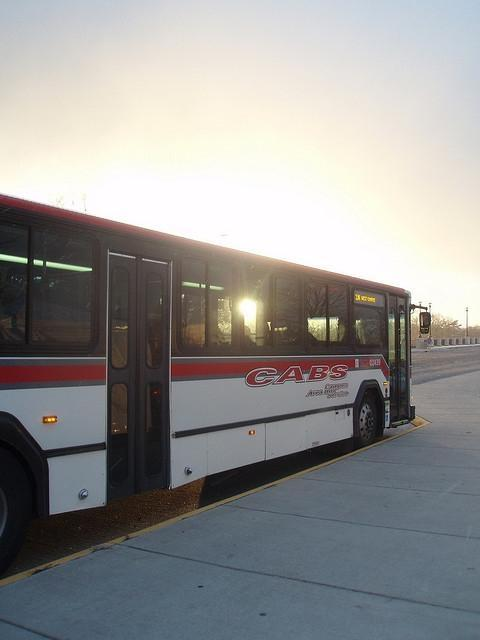bus: (0, 194, 431, 572)
